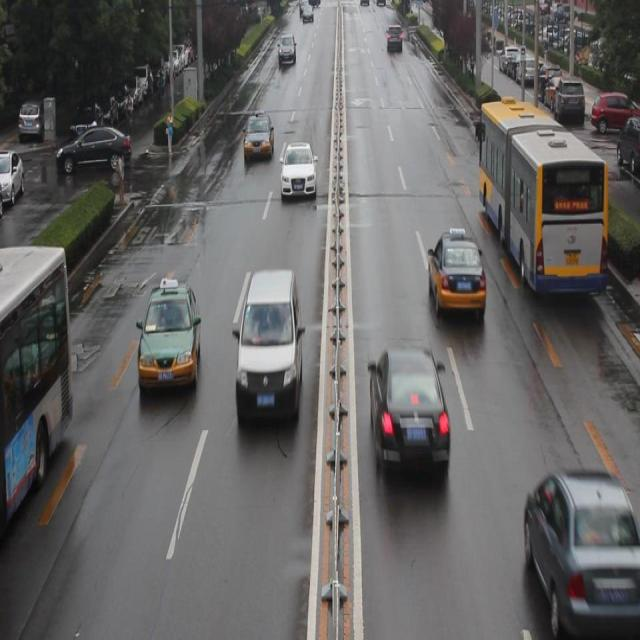car: (523, 462, 632, 631), (368, 347, 447, 488), (135, 279, 199, 393), (426, 230, 482, 316), (280, 143, 316, 201), (242, 115, 272, 167)
truck: (235, 272, 299, 425)
van: (478, 103, 607, 294), (0, 245, 72, 520)
